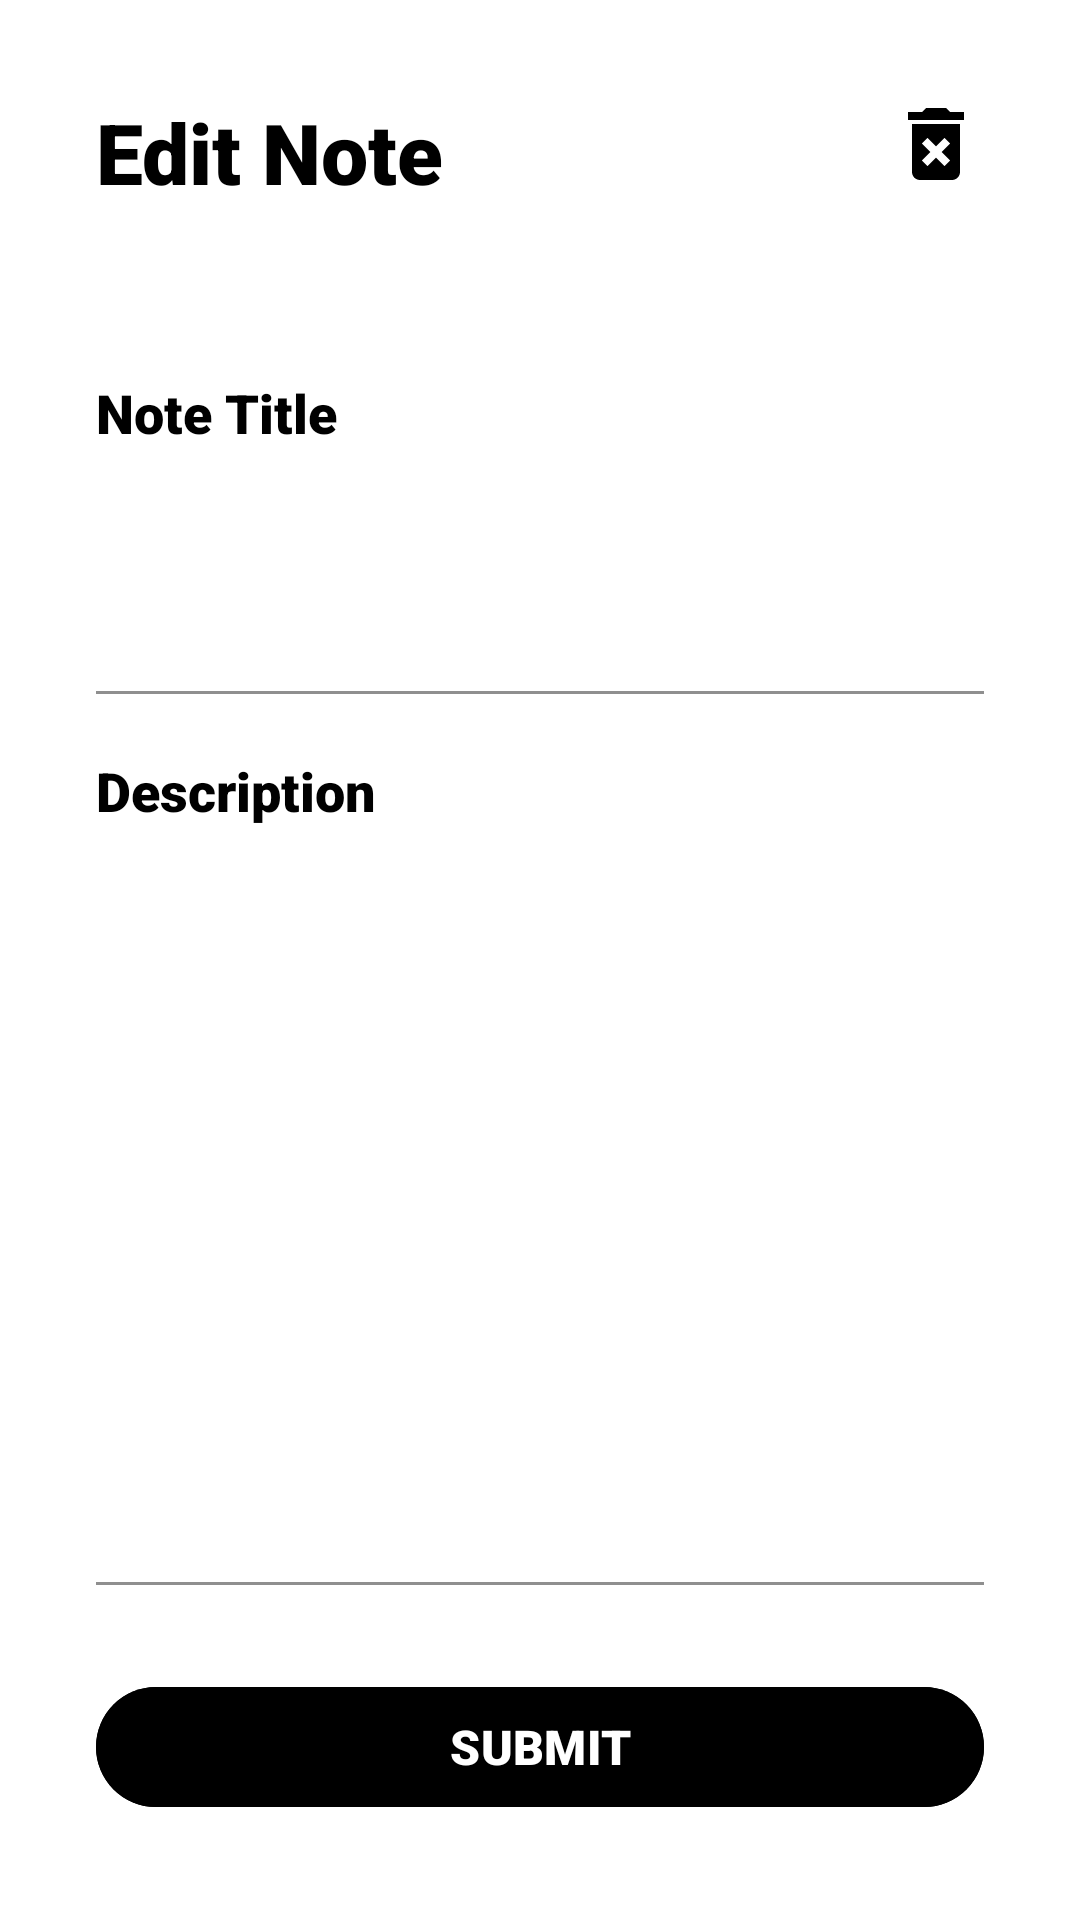

Icons on this 1080 × 1920 Android screen, each with the point to tap as [x,y]:
delete: [936,144]
